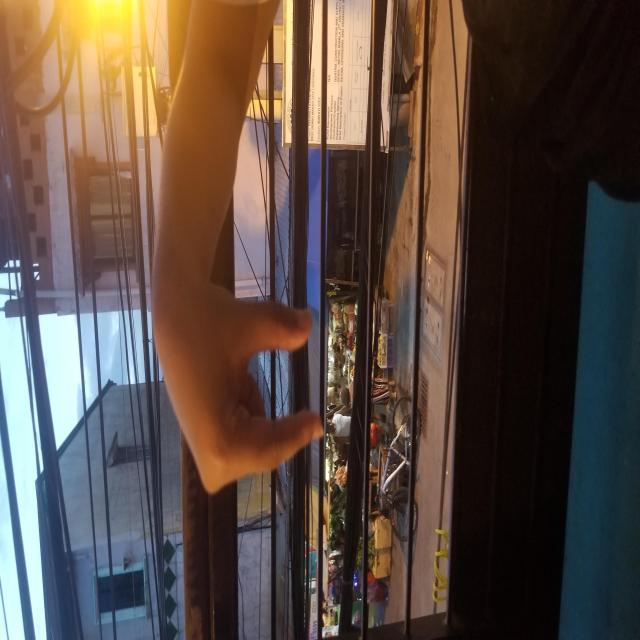Q: (126, 163, 350, 549)
